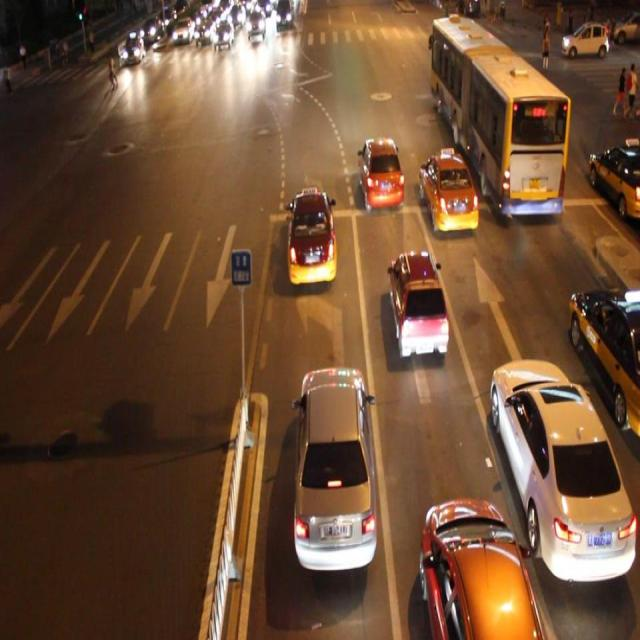car: (489, 357, 640, 580), (419, 498, 542, 640), (292, 363, 376, 570), (567, 280, 640, 436), (386, 250, 447, 358), (286, 187, 337, 287), (421, 150, 478, 235), (587, 136, 640, 218), (357, 136, 404, 212)
van: (430, 13, 569, 220)
